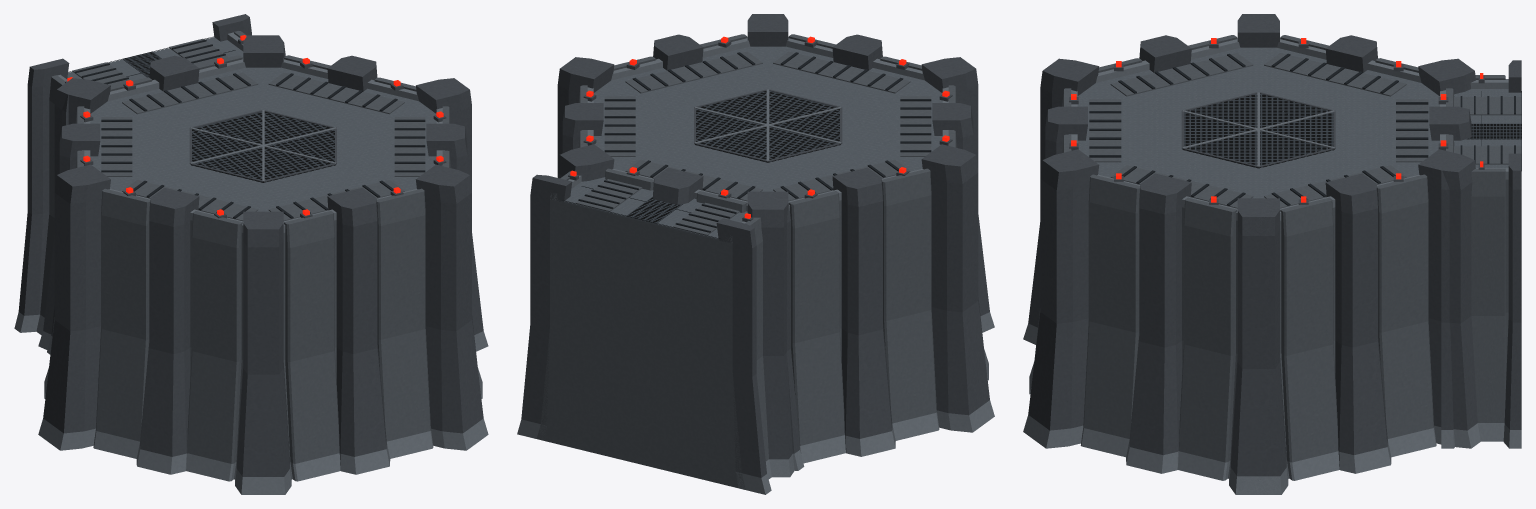
File: pier.glb
3 views of the same model, side by side, from view 1: azimuth 30°, elevation 25°; view 2: azimuth 150°, elevation 25°; view 3: azimuth 270°, elevation 25° (orthographic). The views are drawn at different scales.
Visible parts, largest first — view 1: pier-lod0-roof0, pier-lod0-base0, pier-lod0-floor0, pier-lod0-roof0-link-n, pier-lod0-base0-link-n, pier-lod0-floor0-link-n; view 2: pier-lod0-roof0, pier-lod0-base0-link-n, pier-lod0-base0, pier-lod0-floor0-link-n, pier-lod0-floor0, pier-lod0-roof0-link-n; view 3: pier-lod0-roof0, pier-lod0-base0, pier-lod0-floor0, pier-lod0-base0-link-n, pier-lod0-roof0-link-n, pier-lod0-floor0-link-n.
Part boxes in pixels (x1=…): pier-lod0-roof0: x1=54, y1=35, x2=471, y2=260; pier-lod0-base0: x1=38, y1=233, x2=488, y2=494; pier-lod0-floor0: x1=54, y1=119, x2=471, y2=374; pier-lod0-roof0-link-n: x1=27, y1=14, x2=285, y2=125; pier-lod0-base0-link-n: x1=14, y1=212, x2=54, y2=354; pier-lod0-floor0-link-n: x1=27, y1=98, x2=65, y2=217; pier-lod0-roof0: x1=557, y1=14, x2=978, y2=240; pier-lod0-base0-link-n: x1=517, y1=323, x2=804, y2=494; pier-lod0-base0: x1=763, y1=215, x2=994, y2=477; pier-lod0-floor0-link-n: x1=530, y1=208, x2=790, y2=376; pier-lod0-floor0: x1=557, y1=99, x2=978, y2=355; pier-lod0-roof0-link-n: x1=530, y1=151, x2=790, y2=261; pier-lod0-roof0: x1=1040, y1=14, x2=1475, y2=249; pier-lod0-base0: x1=1023, y1=222, x2=1480, y2=494; pier-lod0-floor0: x1=1040, y1=102, x2=1471, y2=368; pier-lod0-base0-link-n: x1=1441, y1=312, x2=1521, y2=448; pier-lod0-roof0-link-n: x1=1441, y1=60, x2=1521, y2=203; pier-lod0-floor0-link-n: x1=1441, y1=193, x2=1521, y2=322.
Size of what is drawn, in the model's own units: 70.84 by 40.8 by 68.28.
7 materials, 7 textured.
